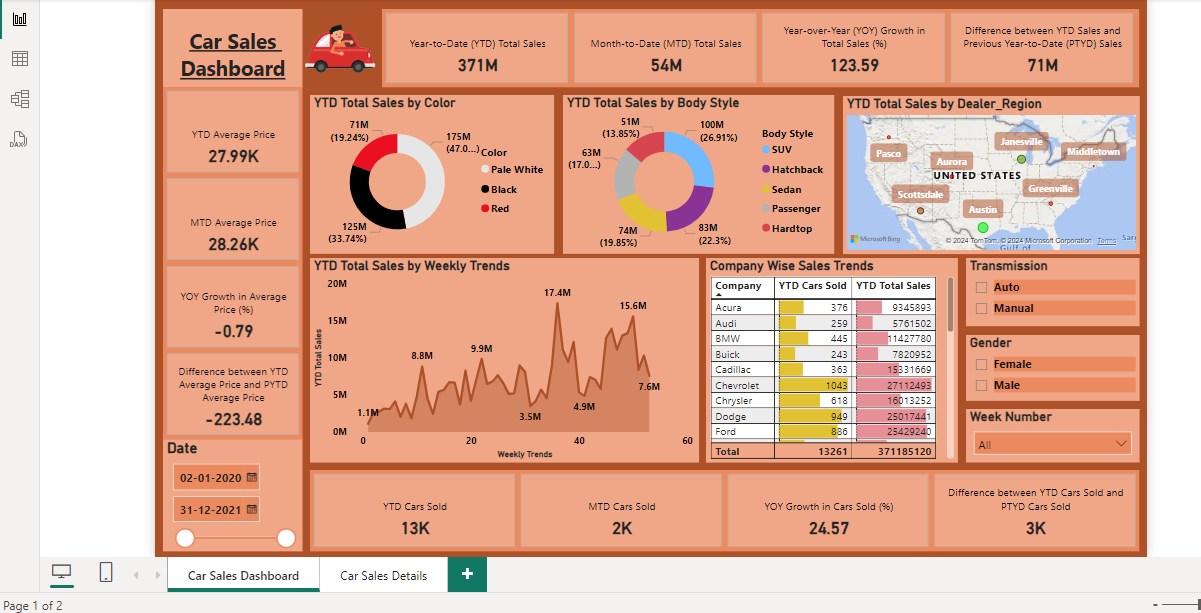

The page's visual inventory and layout, read from the dashboard file:
{"tool":"powerbi","page":{"name":"Car Sales Dashboard","canvas":[1280,720],"ordinal":0},"visuals":[{"type":"textbox","box":[9.9,12.8,180,100.6],"z":0},{"type":"cardVisual","fields":{"Data":["Car Sales.YTD Total Sales","Car Sales.•Month-to-Date (MTD) Total Sales","Car Sales.Year-over-Year (YOY) Growth in Total Sales","Car Sales.Difference between YTD Sales and Previous Year-to-Date (PTYD) Sales"]},"box":[293.4,12.8,976.5,100.6],"z":1000},{"type":"slicer","title":"Date","fields":{"Values":["Car Sales.Date"]},"box":[9.9,568.3,180,144.6],"z":2000},{"type":"cardVisual","fields":{"Data":["Car Sales.YTD Average Price","Car Sales.MTD Average Price","Car Sales.YOY Growth in Average Price","Car Sales.Difference between YTD Average Price and PTYD Average Price"]},"box":[9.9,113.4,180,455],"z":3000},{"type":"donutChart","fields":{"Category":["Car Sales.Color"],"Y":["Car Sales.Year-to-Date (YTD) Total Sales"]},"box":[200.2,124.4,315.5,204.7],"z":4000},{"type":"areaChart","fields":{"Y":["Car Sales.Year-to-Date (YTD) Total Sales"],"Category":["Car Sales.WeekNumber"]},"box":[199.8,334.5,501.7,263.6],"z":5000},{"type":"donutChart","fields":{"Y":["Car Sales.Year-to-Date (YTD) Total Sales"],"Category":["Car Sales.Body Style"]},"box":[526.3,124.4,350.3,204.7],"z":6000},{"type":"map","title":"YTD Total Sales by Dealer_Region","fields":{"Size":["Car Sales.Year-to-Date (YTD) Total Sales"],"Category":["Car Sales.Dealer_Region"]},"box":[887.2,124.7,382.7,204.1],"z":7000},{"type":"cardVisual","fields":{"Data":["Car Sales.YTD Cars Sold","Car Sales.MTD Cars Sold","Car Sales.YOY Growth in Cars Sold (%)","Car Sales.Difference between YTD Cars Sold and PTYD Cars Sold"]},"box":[199.8,608,1070.1,104.9],"z":8000},{"type":"tableEx","title":"Company Wise Sales Trends","fields":{"Values":["Car Sales.Company","Car Sales.YTD Cars Sold","Car Sales.Year-to-Date (YTD) Total Sales"]},"box":[711.5,334.5,324.6,263.6],"z":9000},{"type":"image","box":[168.7,12.8,137.5,100.6],"z":10000},{"type":"slicer","title":"Transmission","fields":{"Values":["Car Sales.Transmission"]},"box":[1046,334.5,223.9,87.9],"z":11000},{"type":"slicer","title":"Gender","fields":{"Values":["Car Sales.Gender"]},"box":[1046,433.7,223.9,85],"z":12000},{"type":"slicer","title":"Week Number","fields":{"Values":["Car Sales.WeekNumber"]},"box":[1046,528.7,223.9,69.4],"z":13000}]}

Visuals, with their boxes on the page's 1280x720 design canvas (x1, y1, x2, y2). These are canvas units, not pixel positions in the 1201x613 screenshot, which may show the page scaled, cropped or inside an application window:
textbox: BBox(10, 13, 190, 113)
cardVisual - Car Sales.YTD Total Sales x Car Sales.•Month-to-Date (MTD) Total Sales: BBox(293, 13, 1270, 113)
"Date" slicer: BBox(10, 568, 190, 713)
cardVisual - Car Sales.YTD Average Price x Car Sales.MTD Average Price: BBox(10, 113, 190, 568)
donutChart - Car Sales.Color x Car Sales.Year-to-Date (YTD) Total Sales: BBox(200, 124, 516, 329)
areaChart - Car Sales.Year-to-Date (YTD) Total Sales x Car Sales.WeekNumber: BBox(200, 334, 702, 598)
donutChart - Car Sales.Year-to-Date (YTD) Total Sales x Car Sales.Body Style: BBox(526, 124, 877, 329)
"YTD Total Sales by Dealer_Region" map: BBox(887, 125, 1270, 329)
cardVisual - Car Sales.YTD Cars Sold x Car Sales.MTD Cars Sold: BBox(200, 608, 1270, 713)
"Company Wise Sales Trends" tableEx: BBox(712, 334, 1036, 598)
image: BBox(169, 13, 306, 113)
"Transmission" slicer: BBox(1046, 334, 1270, 422)
"Gender" slicer: BBox(1046, 434, 1270, 519)
"Week Number" slicer: BBox(1046, 529, 1270, 598)
